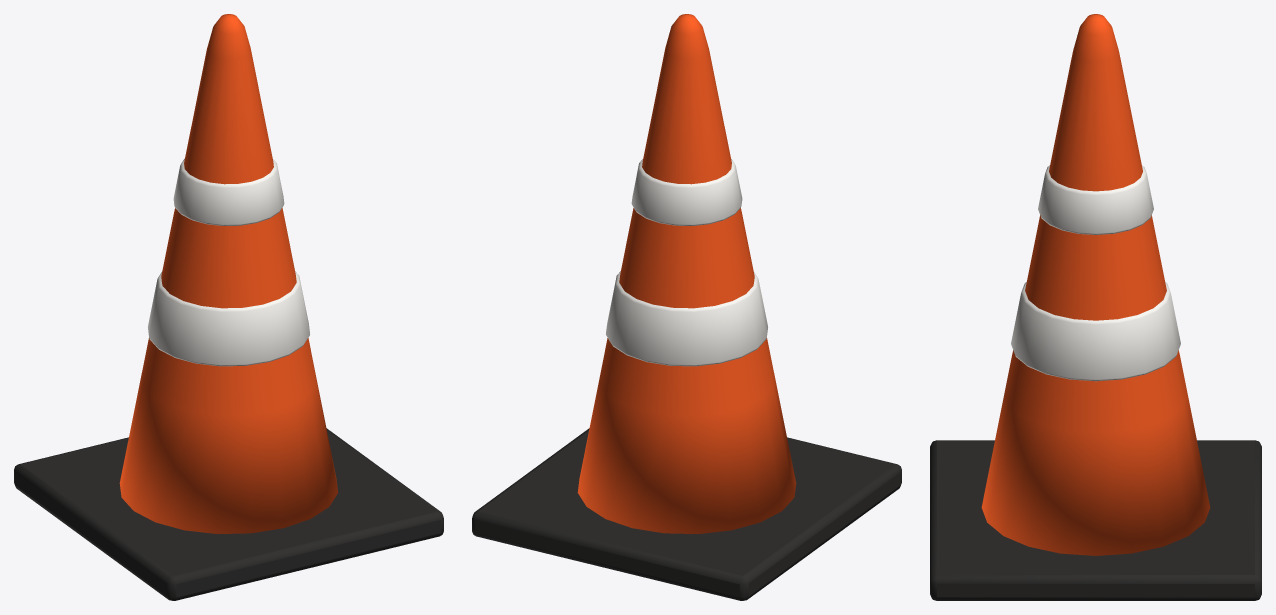
The model's file is traffic-cone.glb.
The picture shows the model from 3 angles, left to right: view 1: azimuth 30°, elevation 25°; view 2: azimuth 150°, elevation 25°; view 3: azimuth 270°, elevation 25°; orthographic projection. The views are drawn at different scales.
Parts seen in each view (by area): view 1: traffic-cone; view 2: traffic-cone; view 3: traffic-cone.
Boxes of the visible parts, x1,y1,x2,y2 form: traffic-cone: (14,14,443,600); traffic-cone: (472,14,901,600); traffic-cone: (930,14,1261,600).
Size of the model in its own units: 0.2436 by 0.42 by 0.2436.
